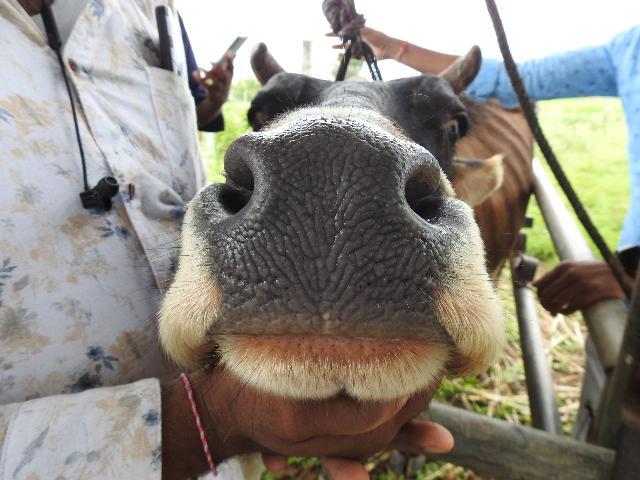Muzzle: (229, 136, 423, 334)
